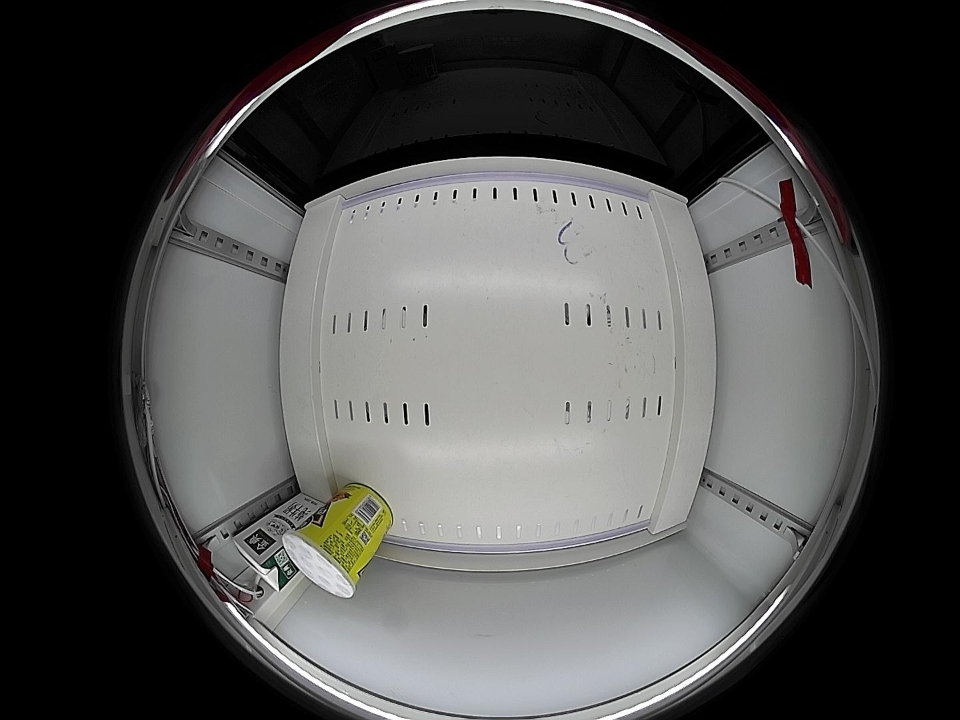jindian: (233, 523, 294, 592)
kebike: (282, 521, 363, 598)
